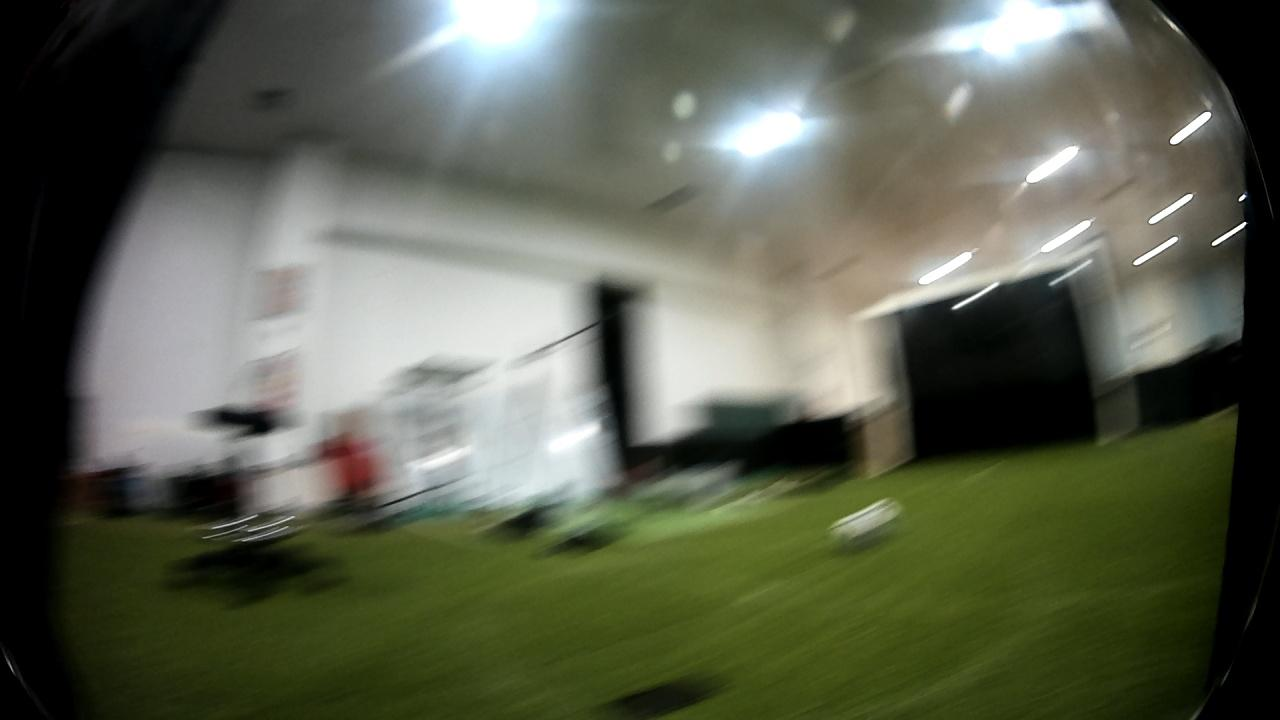ball: (829, 495, 905, 548)
